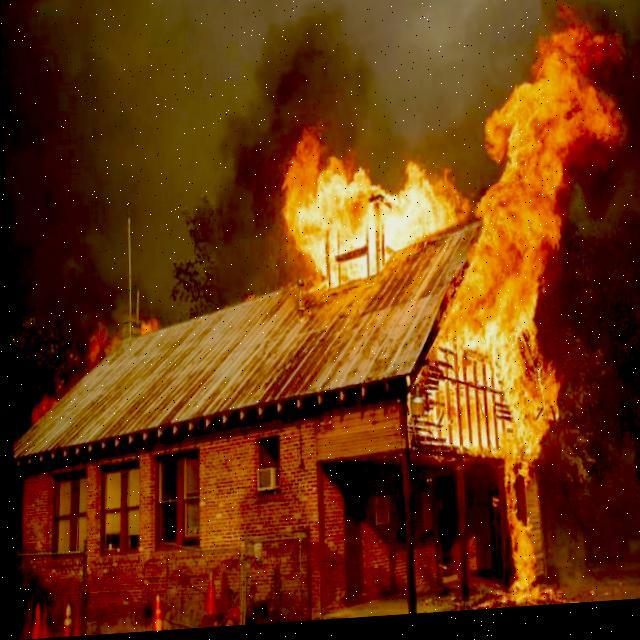Fire: (270, 1, 637, 623), (81, 322, 118, 372), (134, 316, 156, 342)
